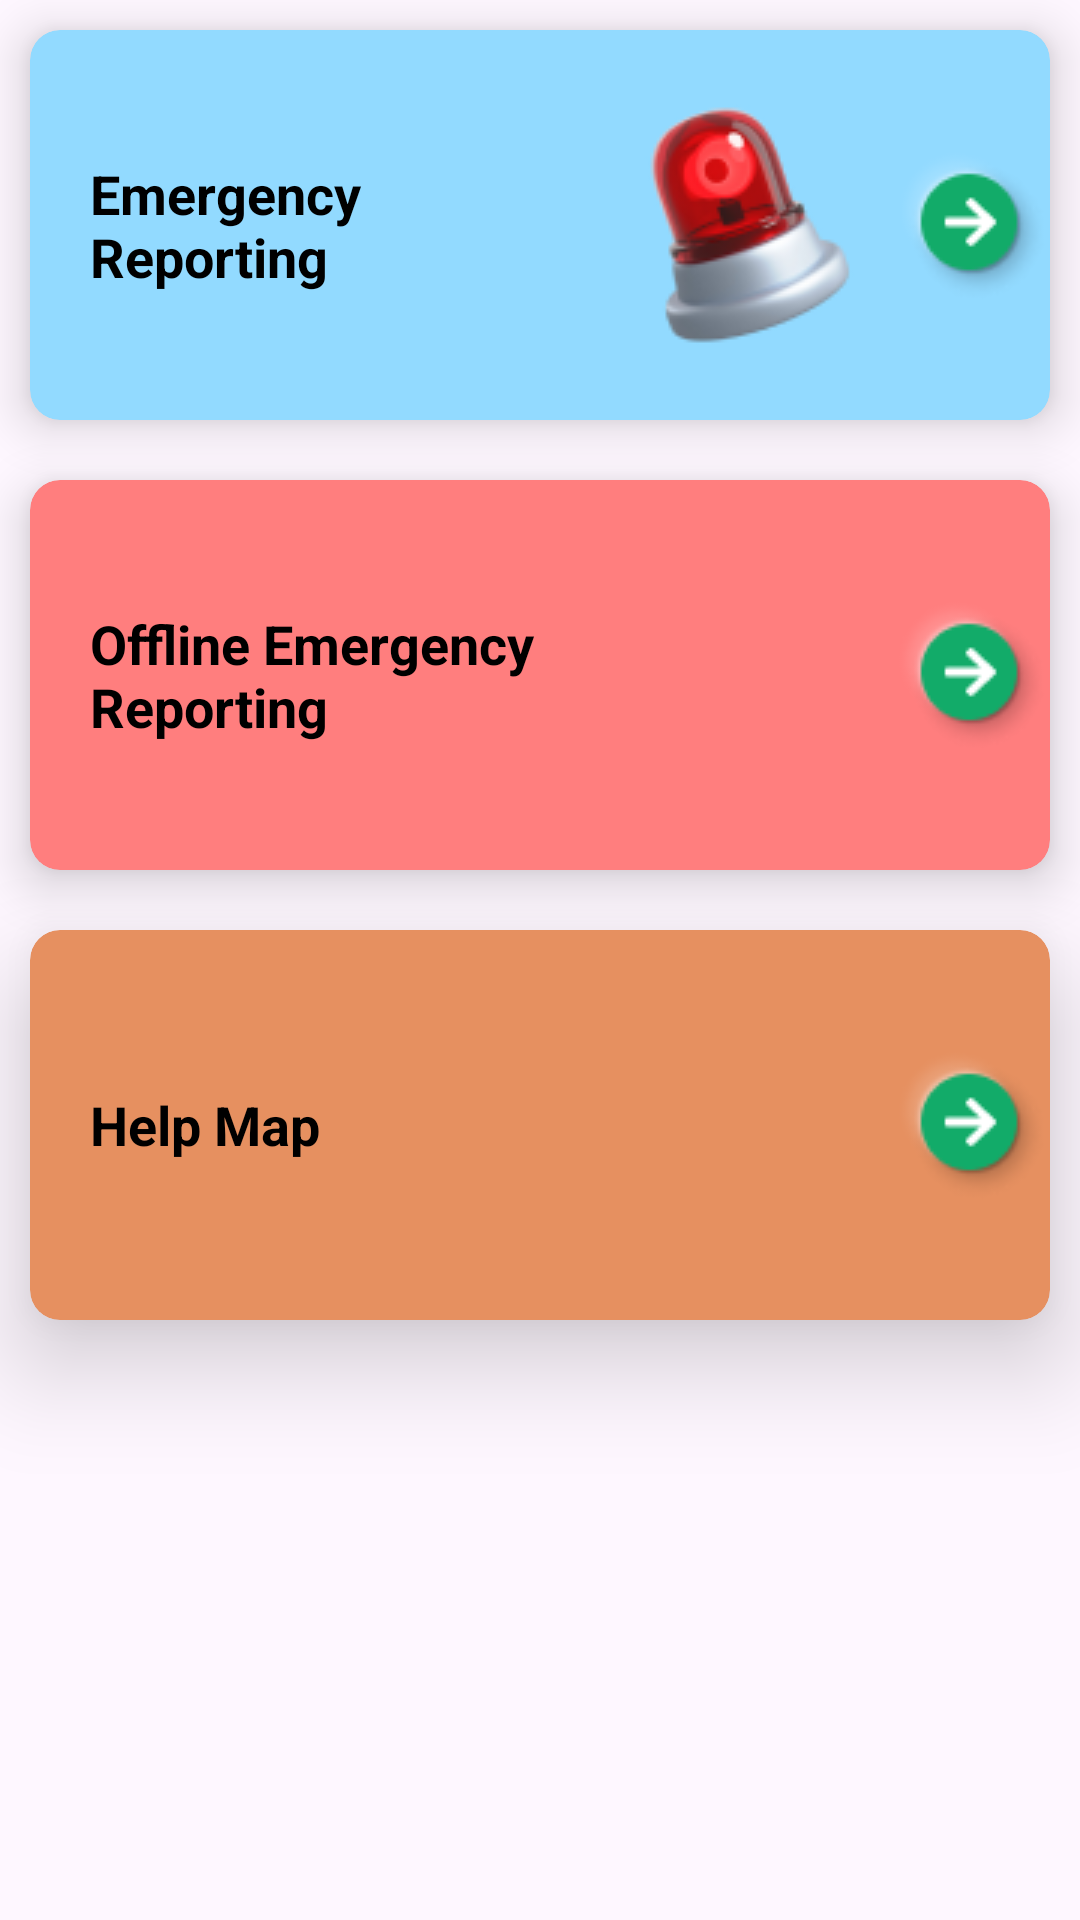

Point at icon controls on the screen. Image size 1080 x 1920, points as [x,y].
arrow: [972,225], [972,675], [970,1124]
